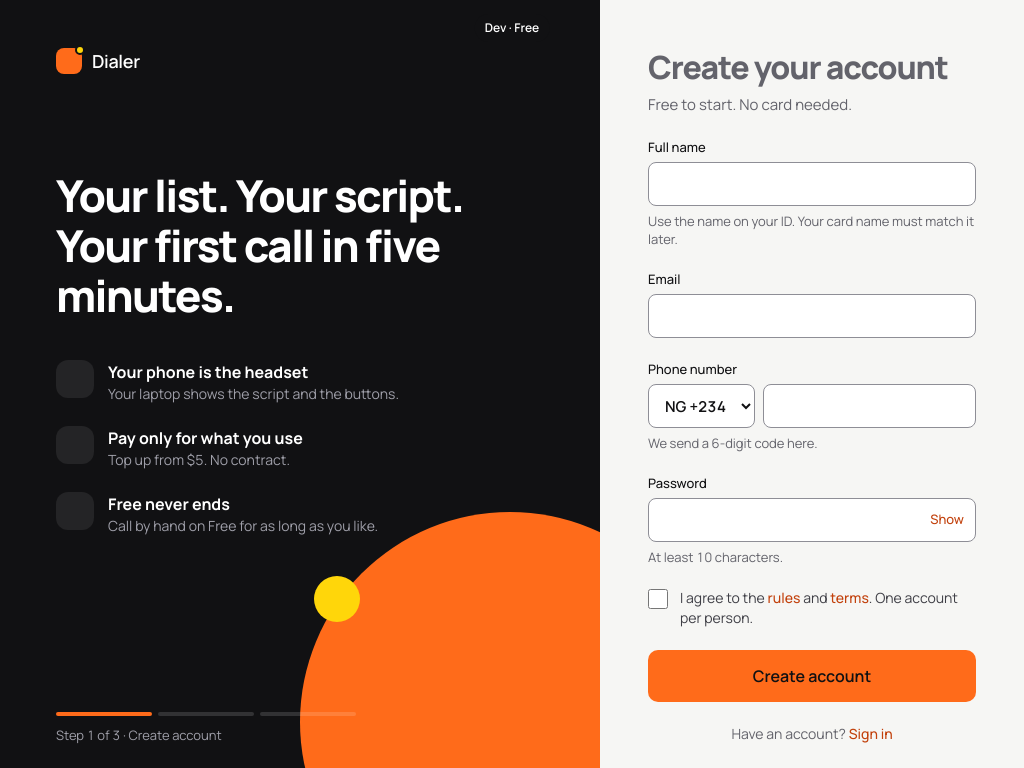
Scenario: live mode › sign up sends the form and shows the server message under the field
The image size is (1024, 768).
Type "Ada Obi" into the field labelled "Full name" at point(812, 184), box [648, 162, 976, 206]
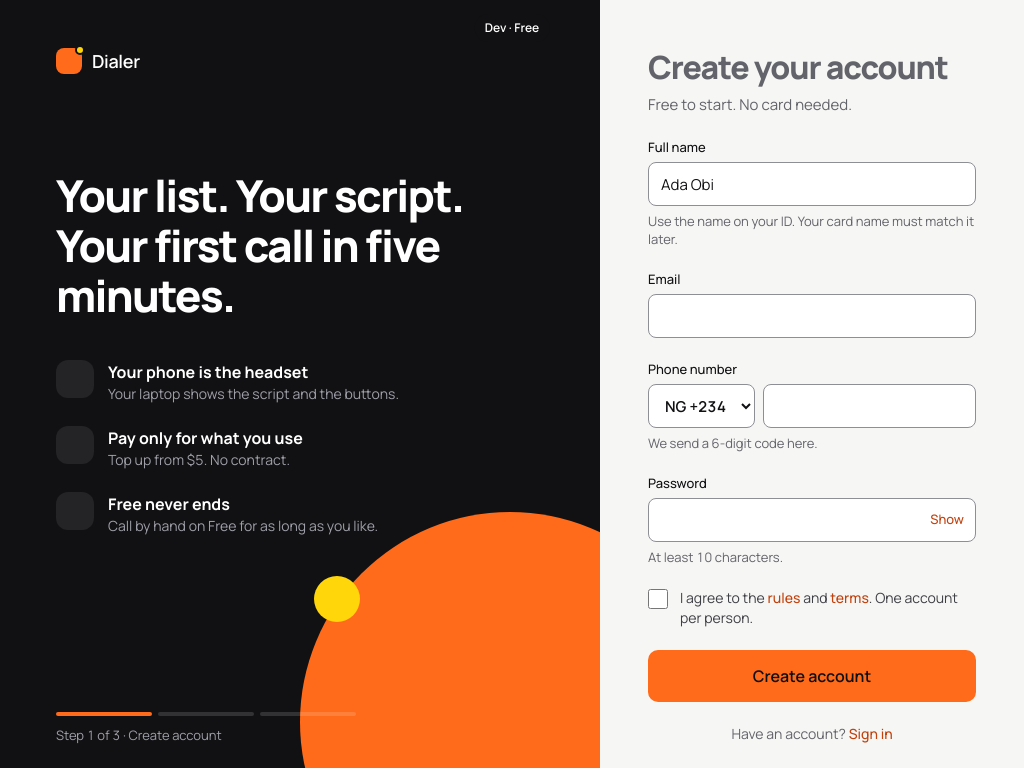
Type "ada@example.test" into the field labelled "Email" at point(812, 316), box [648, 294, 976, 338]
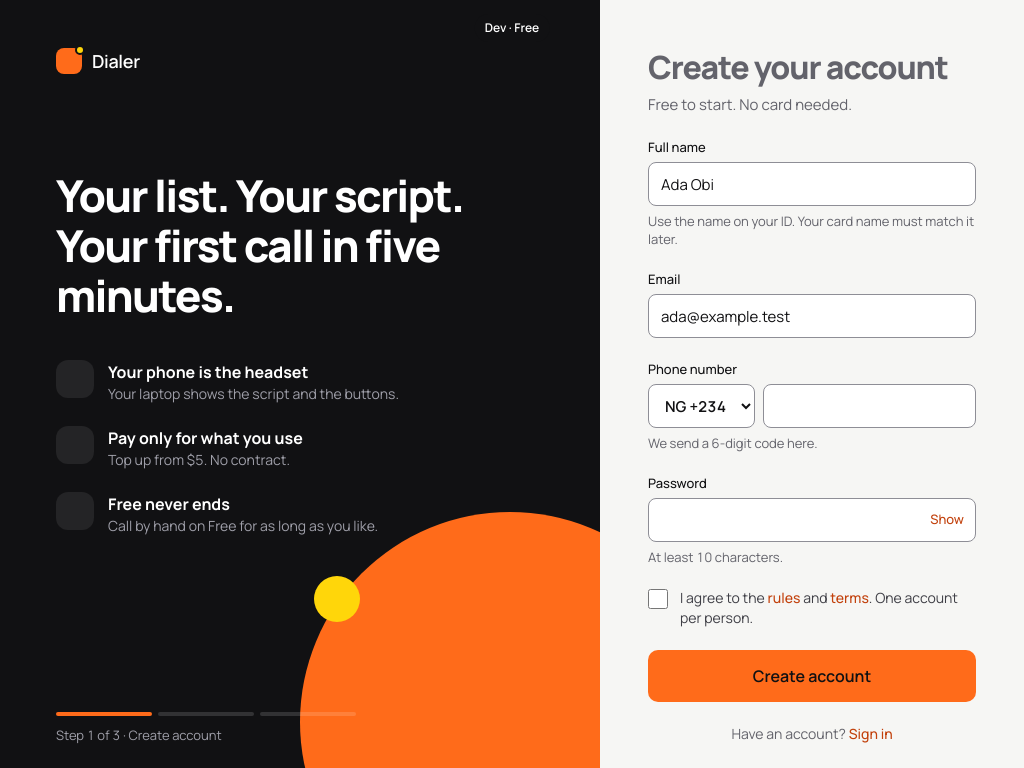
Type "0803 123 4567" into the field labelled "Phone number" at point(870, 406), box [763, 384, 976, 428]
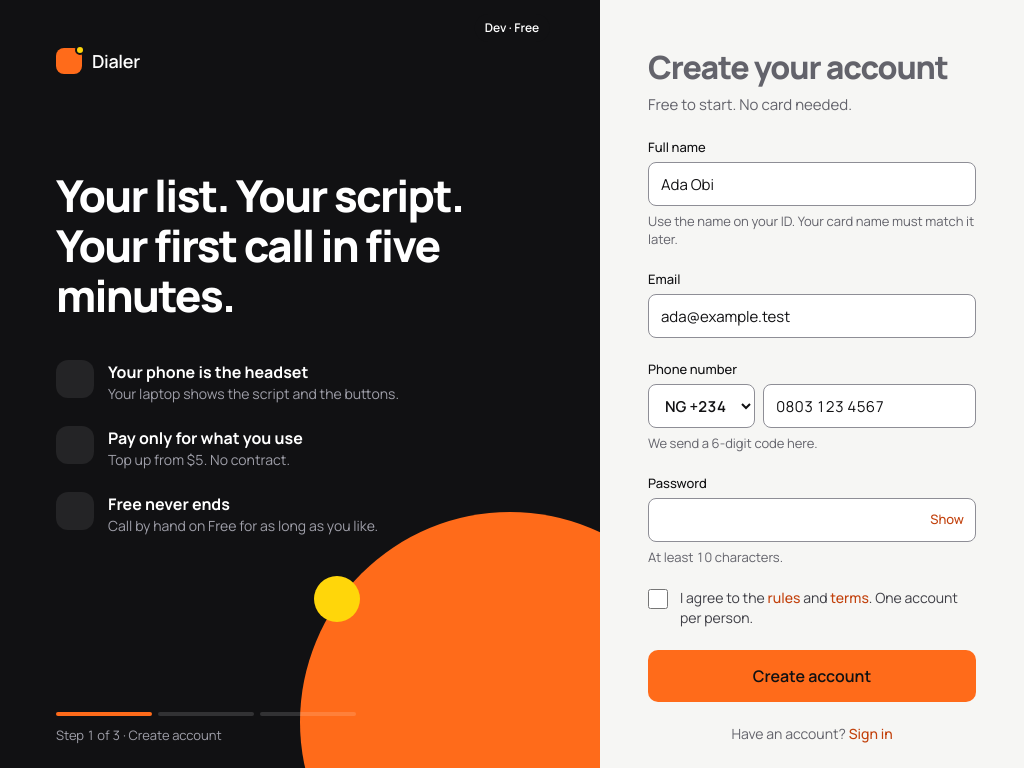
Type "correct-horse" into the password field labelled "Password" at point(812, 520), box [648, 498, 976, 542]
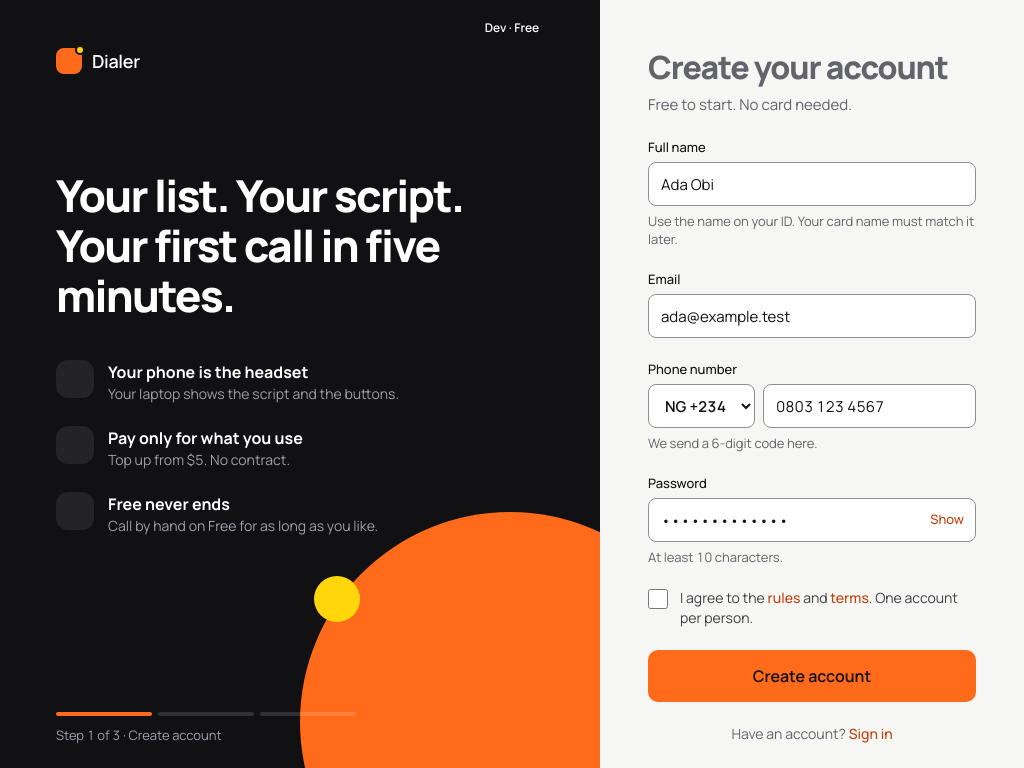
Click the checkbox at point(658, 599), box [648, 589, 668, 609]
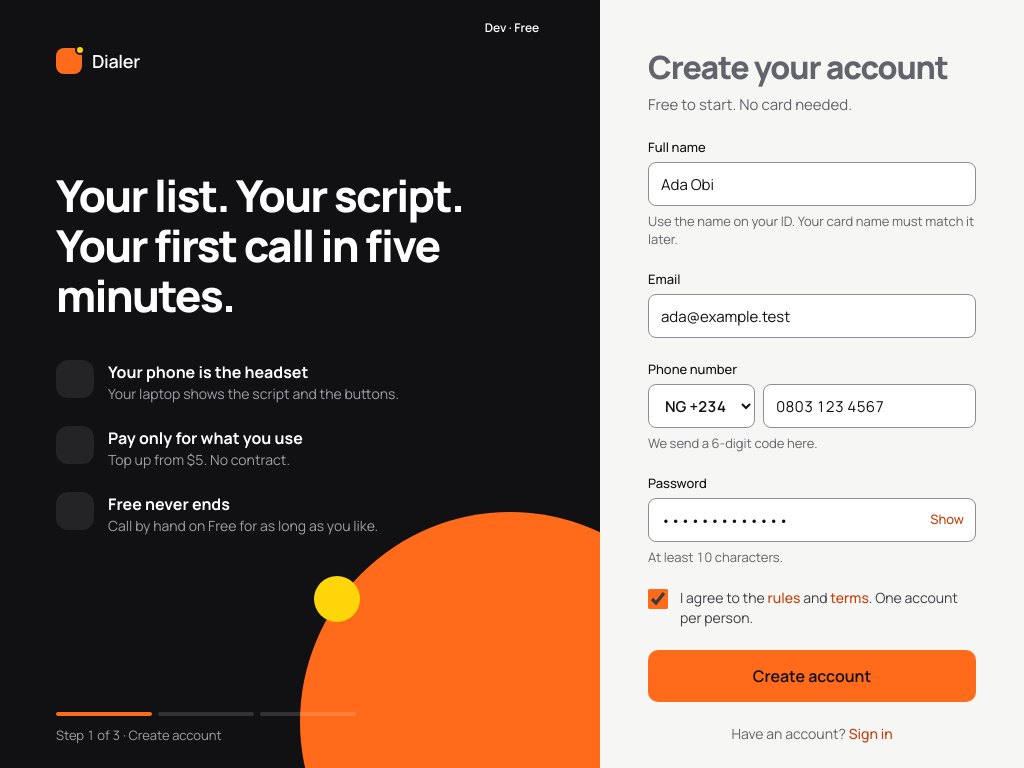
Click the button "Create account" at point(812, 676), box [648, 650, 976, 702]
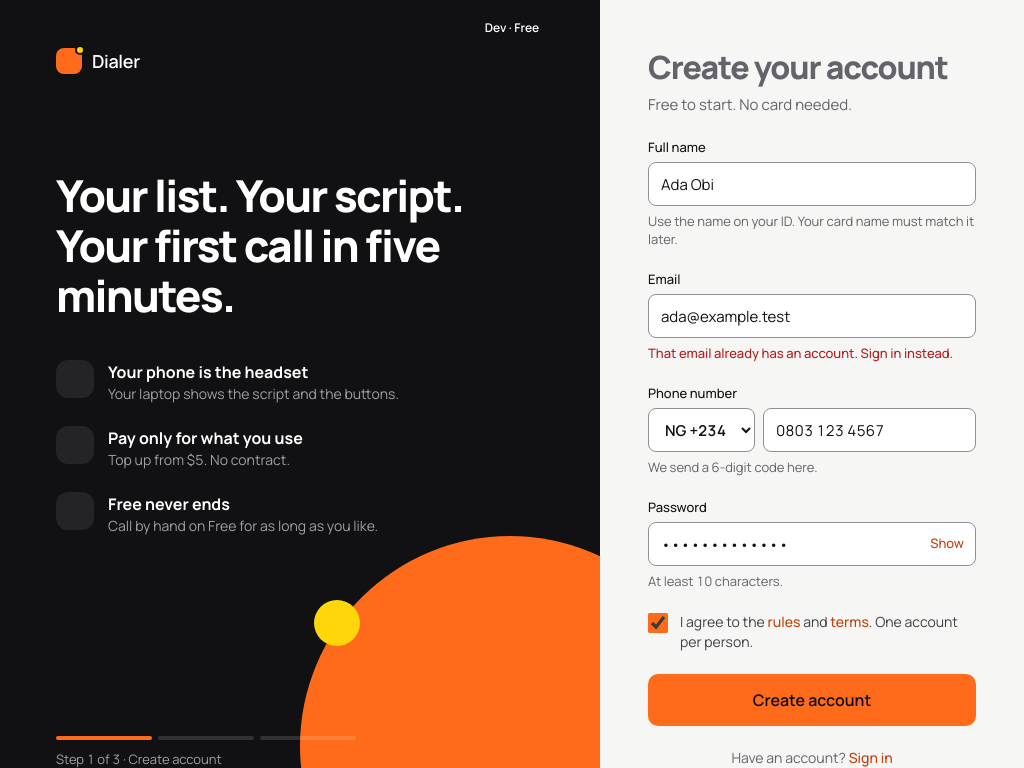
Check: the text "That email already has an account. Sign in instead." is shown, box [648, 344, 976, 362]
